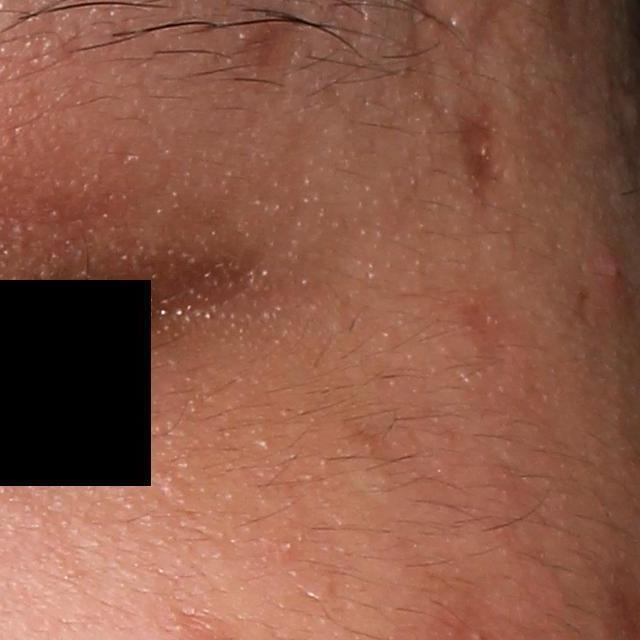atrophic_scar: (461, 105, 510, 198)
papule: (589, 245, 634, 305)
